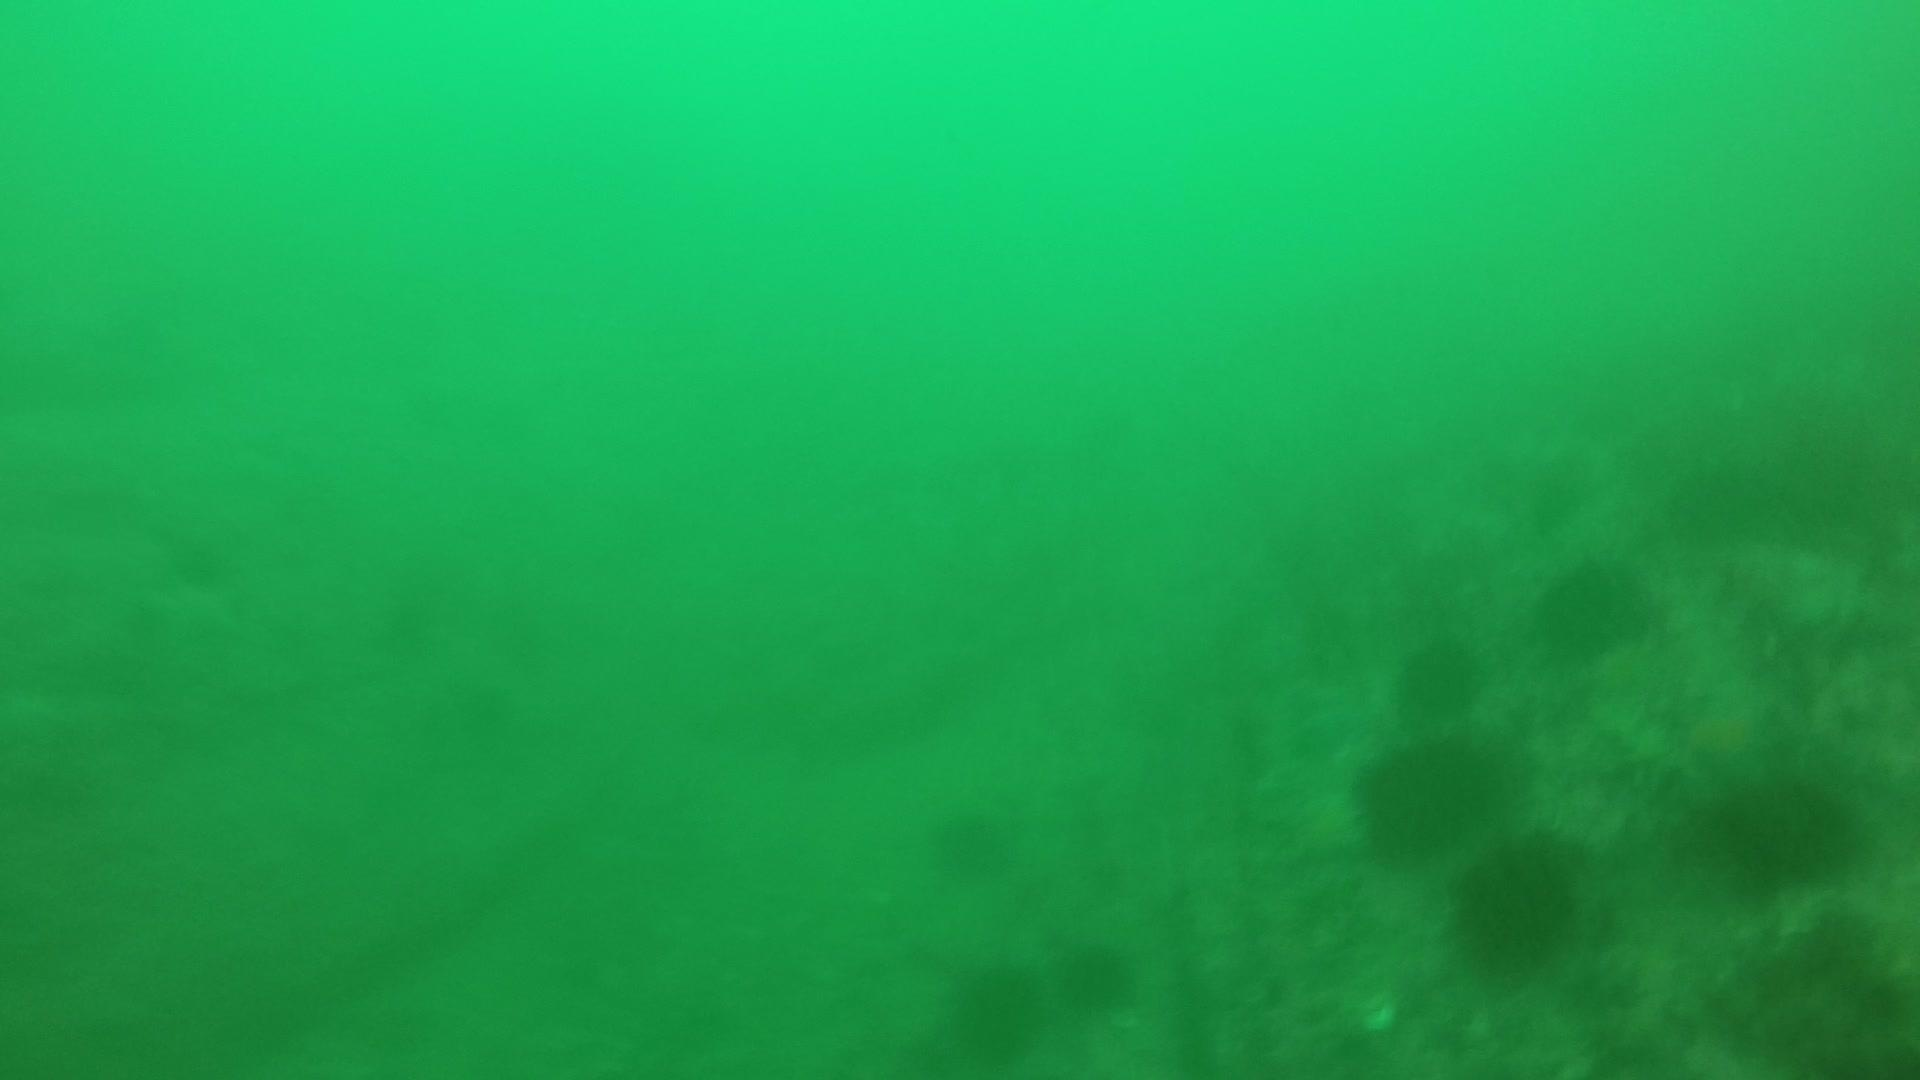echinus: (1349, 727, 1509, 864), (1702, 766, 1867, 895), (1447, 828, 1588, 976), (1530, 550, 1660, 665), (942, 955, 1047, 1064), (1391, 630, 1486, 723), (924, 799, 1015, 881), (1055, 934, 1139, 1015)
starfish: (1672, 682, 1783, 791)
